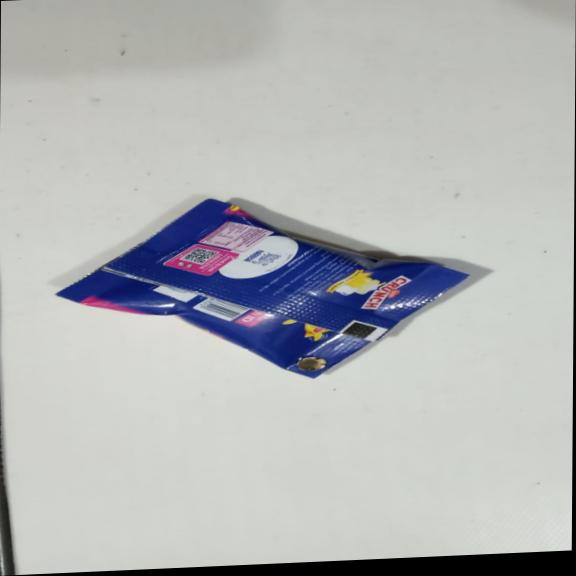Plastik: (53, 187, 468, 393)
